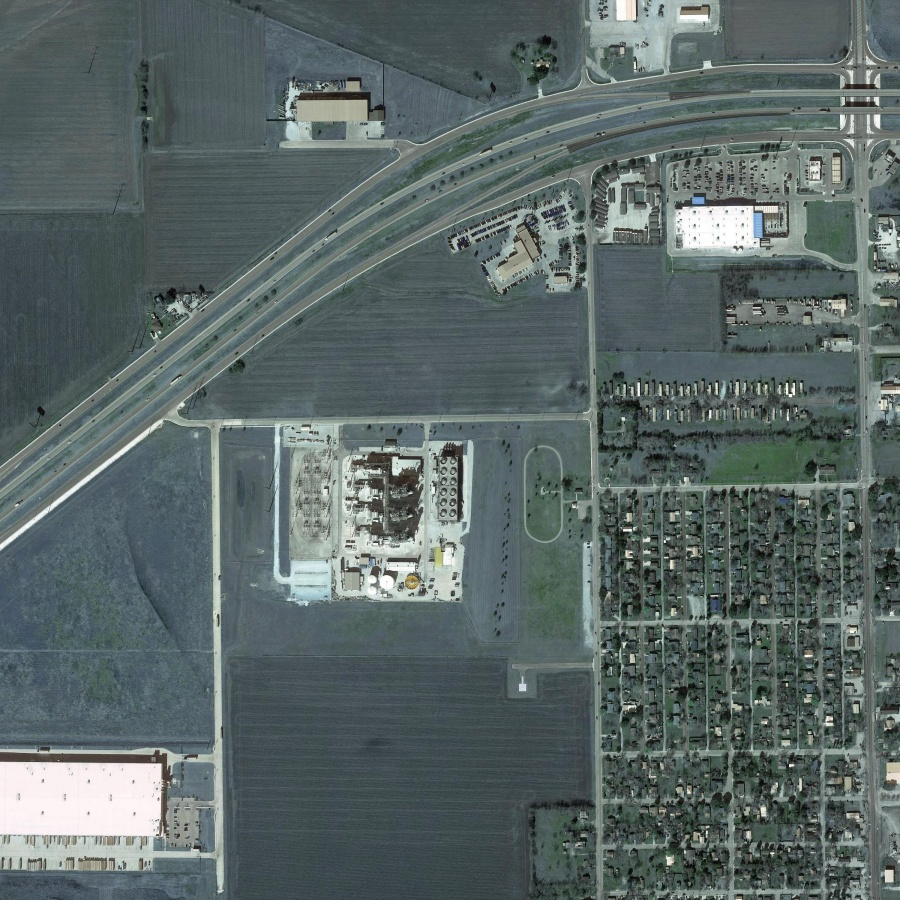PowerPlant: (276, 419, 470, 608)
